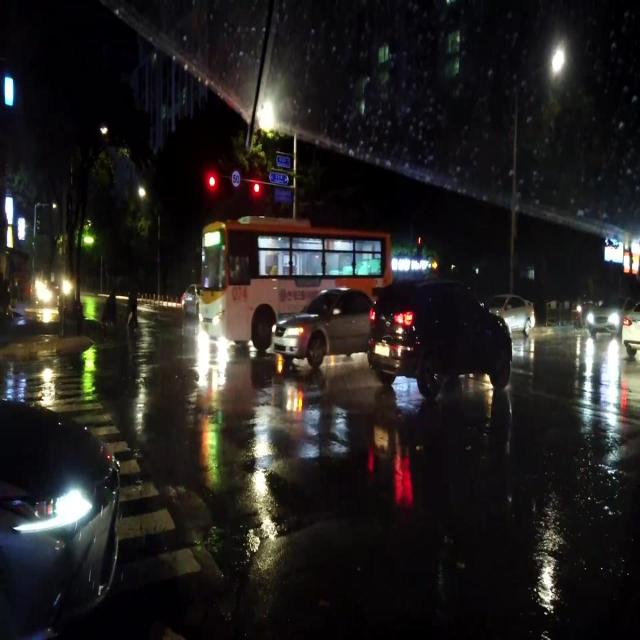Car: (372, 285, 513, 398), (267, 290, 372, 363), (590, 291, 623, 327)
